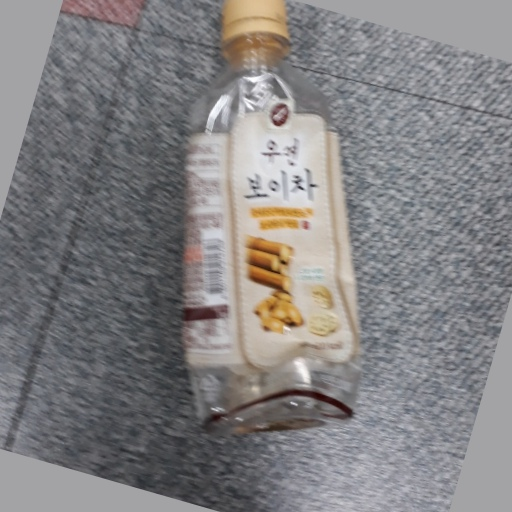Plastic_0: (174, 2, 363, 434)
